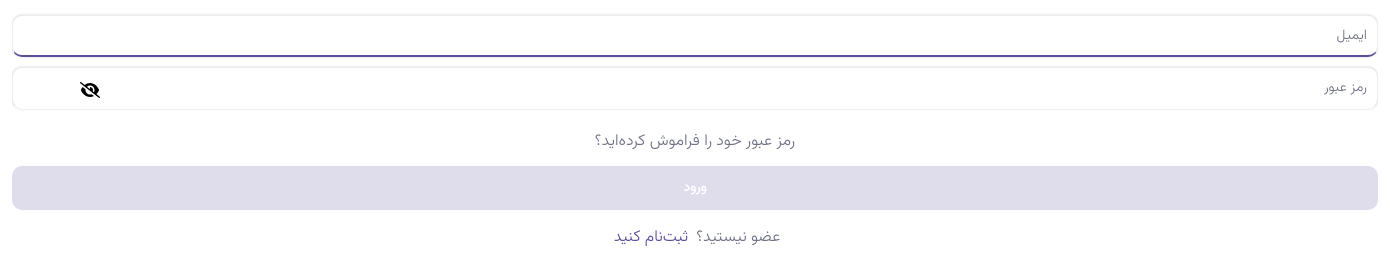
Test: Login Component › Submit button should be enabled when inputs are filled
The image size is (1390, 263).
Step 1. Type "maryam@gmail.com" into the field with placeholder "ایمیل" → (695,36), box [12,15,1378,57]
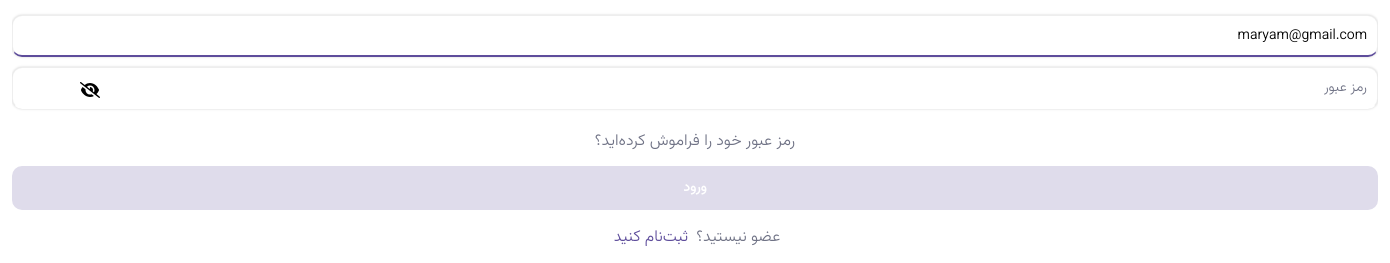
Step 2. Type "ABCD" into the password field with placeholder "رمز عبور" → (695,88), box [12,67,1378,109]
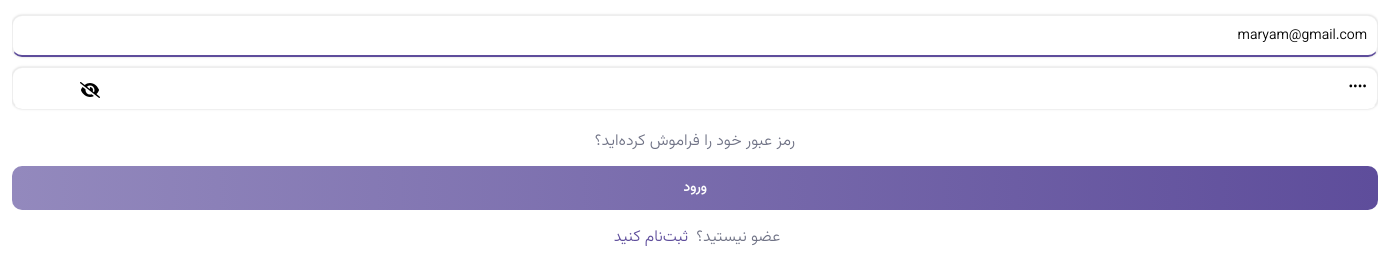
Expected: the button "ورود" is enabled, [12,166,1378,210]
